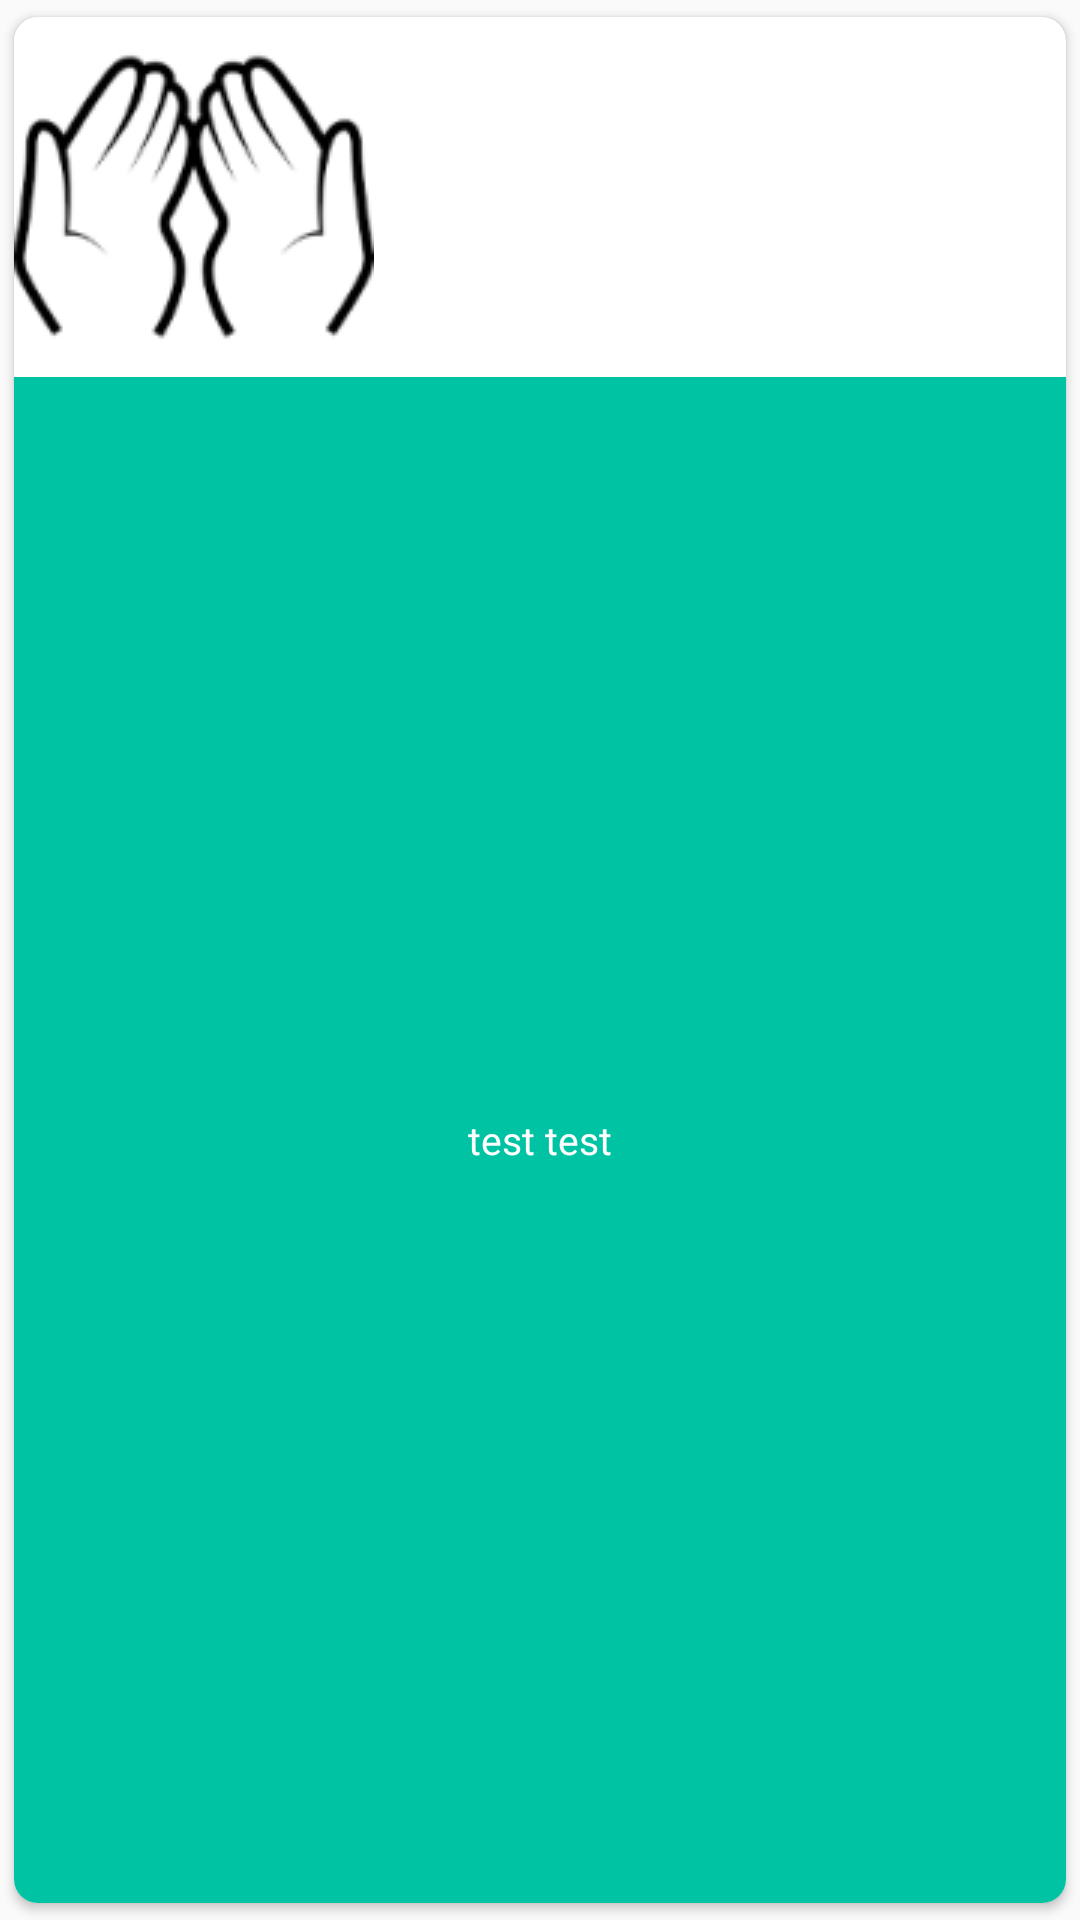

Named icons in this screenshot (1080px x 1920px) and their bounding boxes, (x1, y1, x2, y2):
dua hand: (14, 17, 374, 339)
